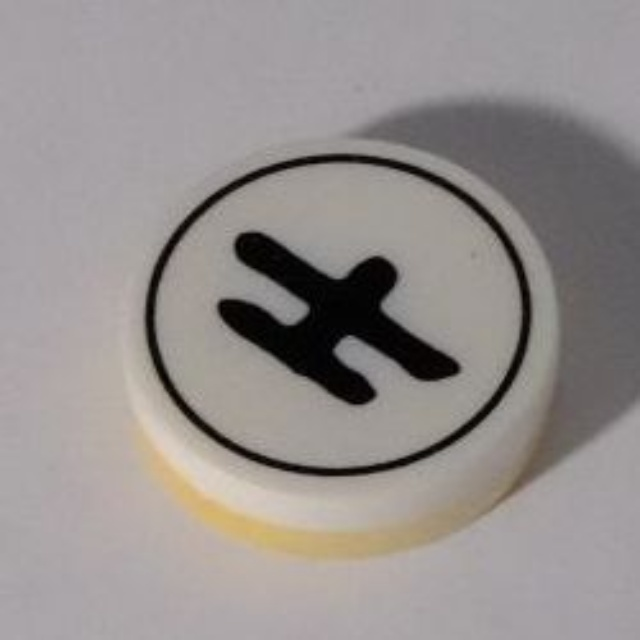black_si: (115, 130, 579, 558)
